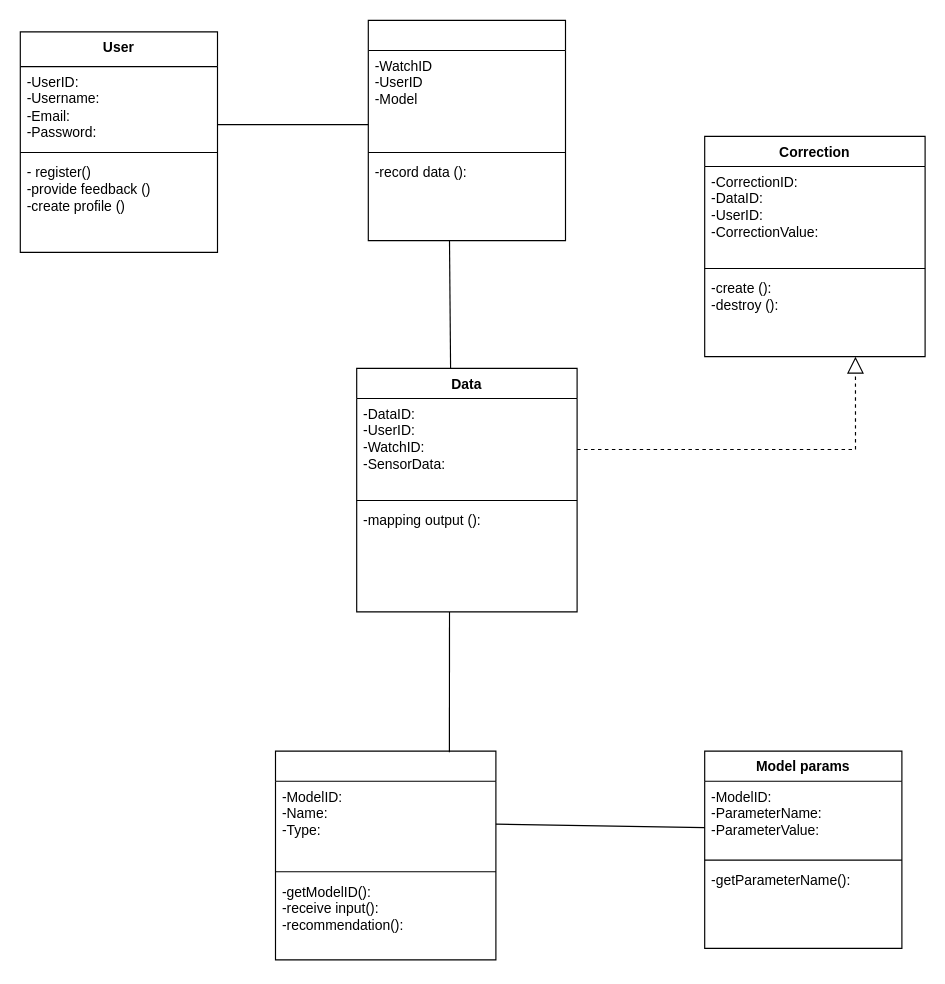
This 945x984 diagram has some shape labels left out. Here are the shapes that lost their labels. From the top down, the box of each, then its label:
(367, 19, 566, 241): Smart Watch
(274, 750, 496, 960): ML Model
